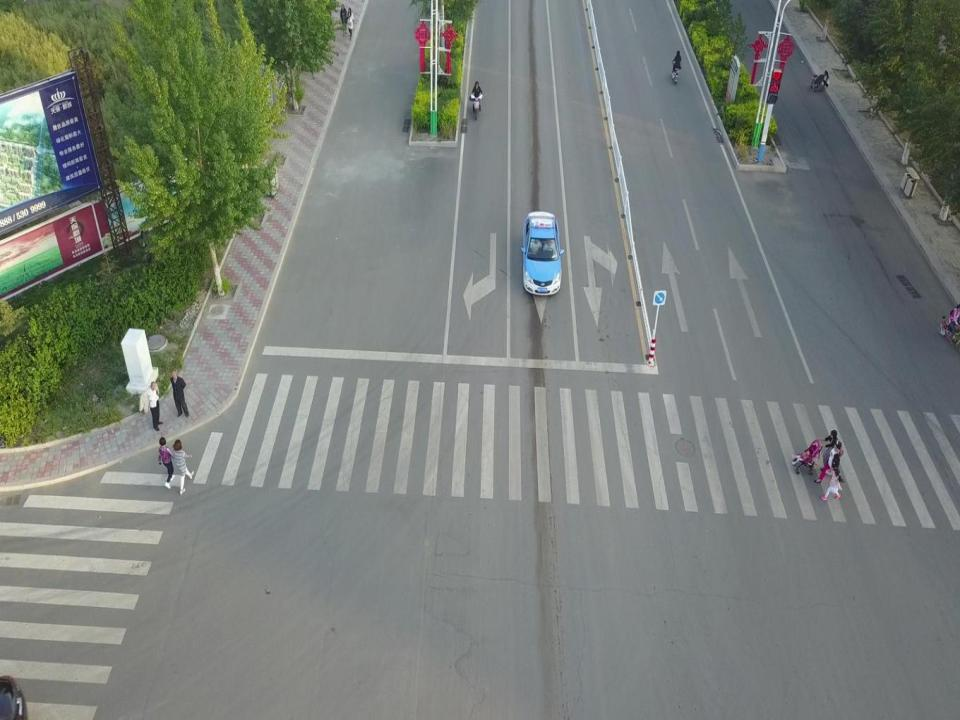car: (517, 212, 564, 296)
